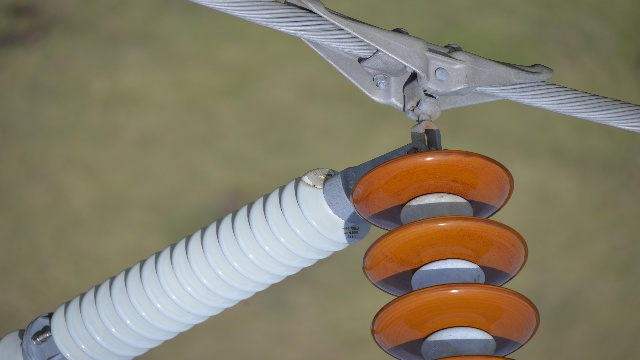insulator_unspecified: (350, 149, 538, 359)
pollution_flashover_local: (302, 165, 338, 190)
